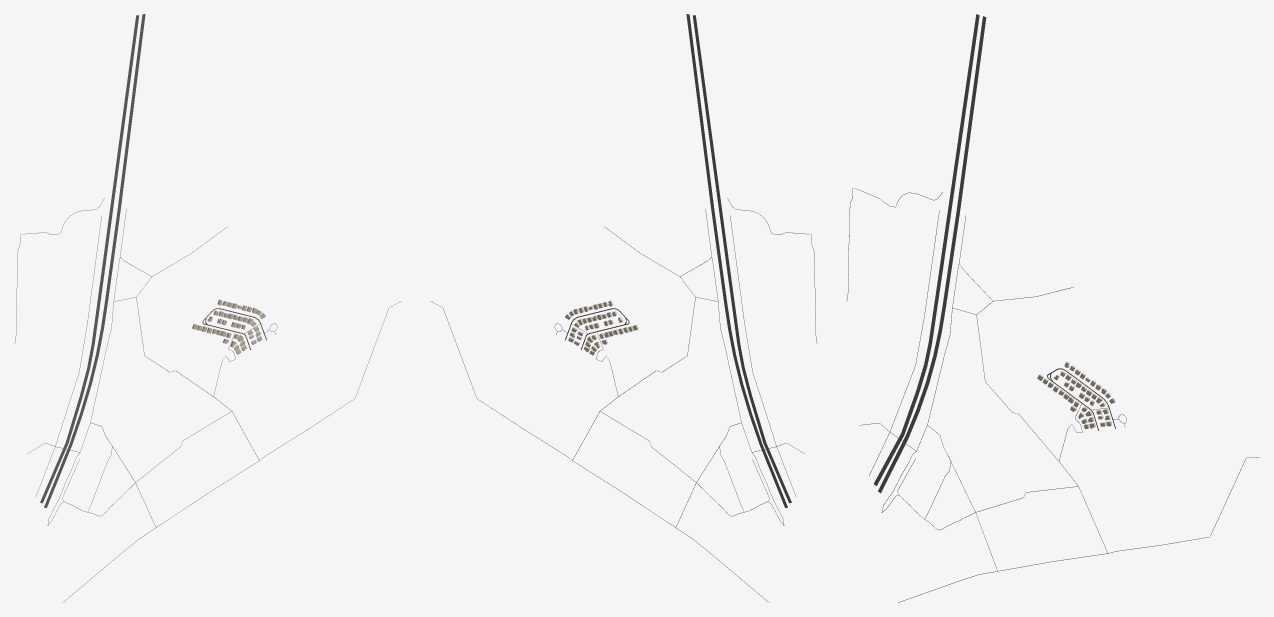
Rendered from historic-palestine-07_24_3487_3185.glb.
3 views of the same model, side by side, from view 1: azimuth 30°, elevation 25°; view 2: azimuth 150°, elevation 25°; view 3: azimuth 330°, elevation 25° (orthographic). The views are drawn at different scales.
Visible parts, largest first — view 1: Road כביש חוצה ישראל, Road כביש חוצה ישראל.001; view 2: Road כביש חוצה ישראל, Road כביש חוצה ישראל.001; view 3: Road כביש חוצה ישראל, Road כביש חוצה ישראל.001.
Boxes of the visible parts, left/top/right/bottom form: Road כביש חוצה ישראל: left=44, top=14, right=145, bottom=507; Road כביש חוצה ישראל.001: left=40, top=15, right=139, bottom=503; Road כביש חוצה ישראל: left=686, top=14, right=787, bottom=507; Road כביש חוצה ישראל.001: left=692, top=15, right=791, bottom=503; Road כביש חוצה ישראל: left=878, top=16, right=986, bottom=493; Road כביש חוצה ישראל.001: left=874, top=14, right=979, bottom=485.
Bounding box in the file's own units: 1449 × 2035 × 8.7.
